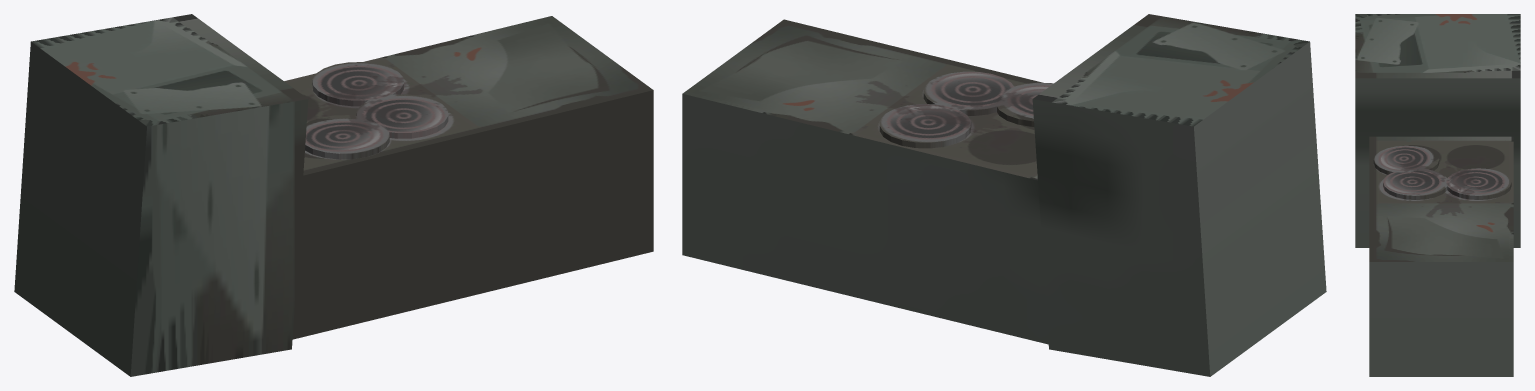
The model's file is Building_AncientTableStoveFueled.obj.
3 renders of one model, left to right at view 1: azimuth 30°, elevation 25°; view 2: azimuth 150°, elevation 25°; view 3: azimuth 270°, elevation 25°, orthographic. The views are drawn at different scales.
Parts seen in each view (by area): view 1: Body; view 2: Body; view 3: Body.
Part boxes in pixels (<box>): Body: <box>14,14,653,376</box>; Body: <box>682,14,1326,376</box>; Body: <box>1355,14,1520,376</box>.
Bounding box in the file's own units: 2.94 × 1.36 × 1.11.
Materials: 1 (1 with a texture image).
